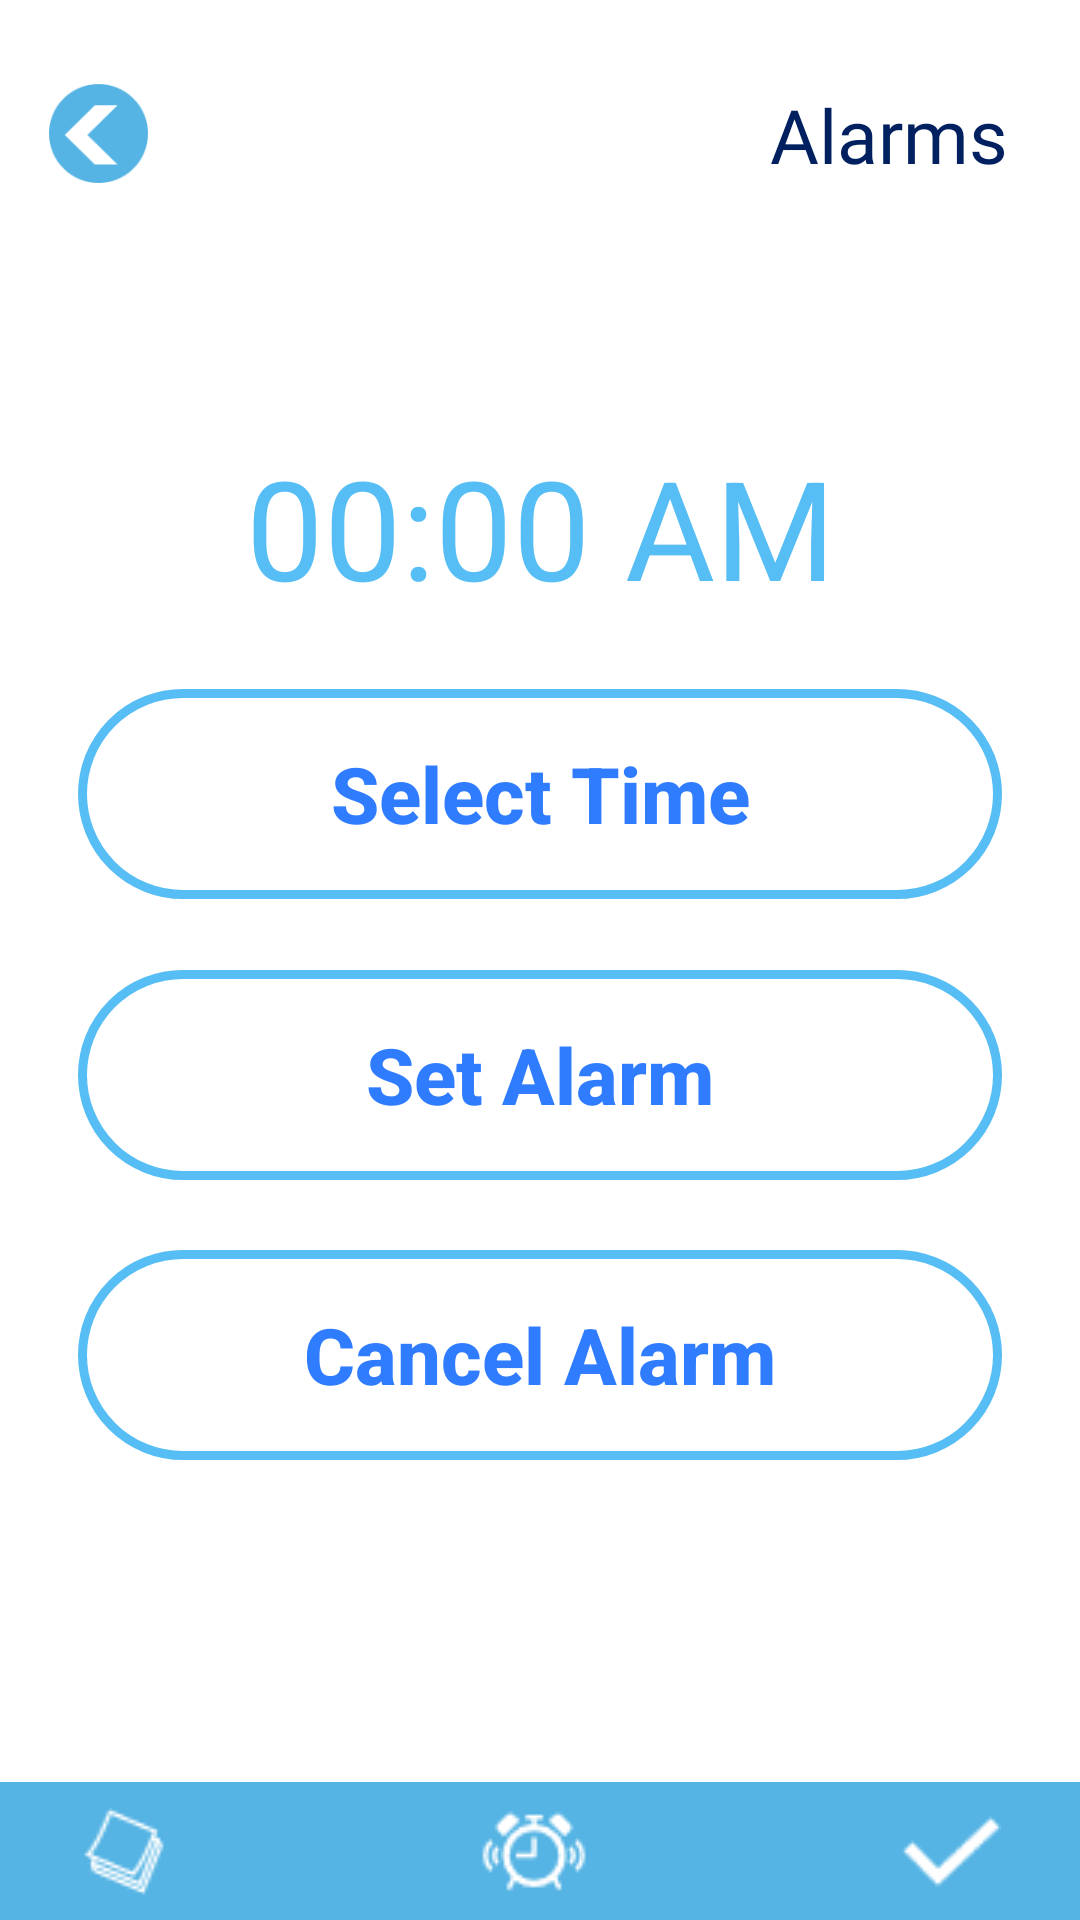

Screen size 1080w x 1920h. Icon name, then its box in pixels as (x1, y1, x2, y2):
alarms: (482, 1812, 586, 1891)
back: (49, 84, 148, 183)
